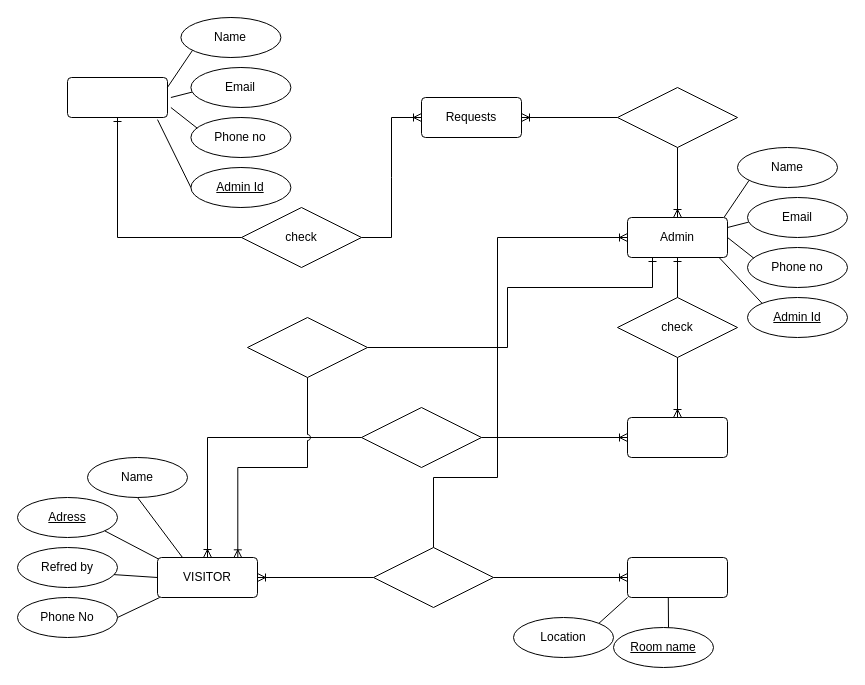
This 865x685 diagram has some shape labels left out. Here are the shapes that lost their labels. From the top down, the box of each, then its label:
(66, 76, 168, 118): Developer
(616, 86, 738, 148): Sends Requests
(246, 316, 368, 378): give feedback
(360, 406, 482, 468): give
(626, 416, 728, 458): Feedback
(372, 546, 494, 608): locate
(626, 556, 728, 598): Room
